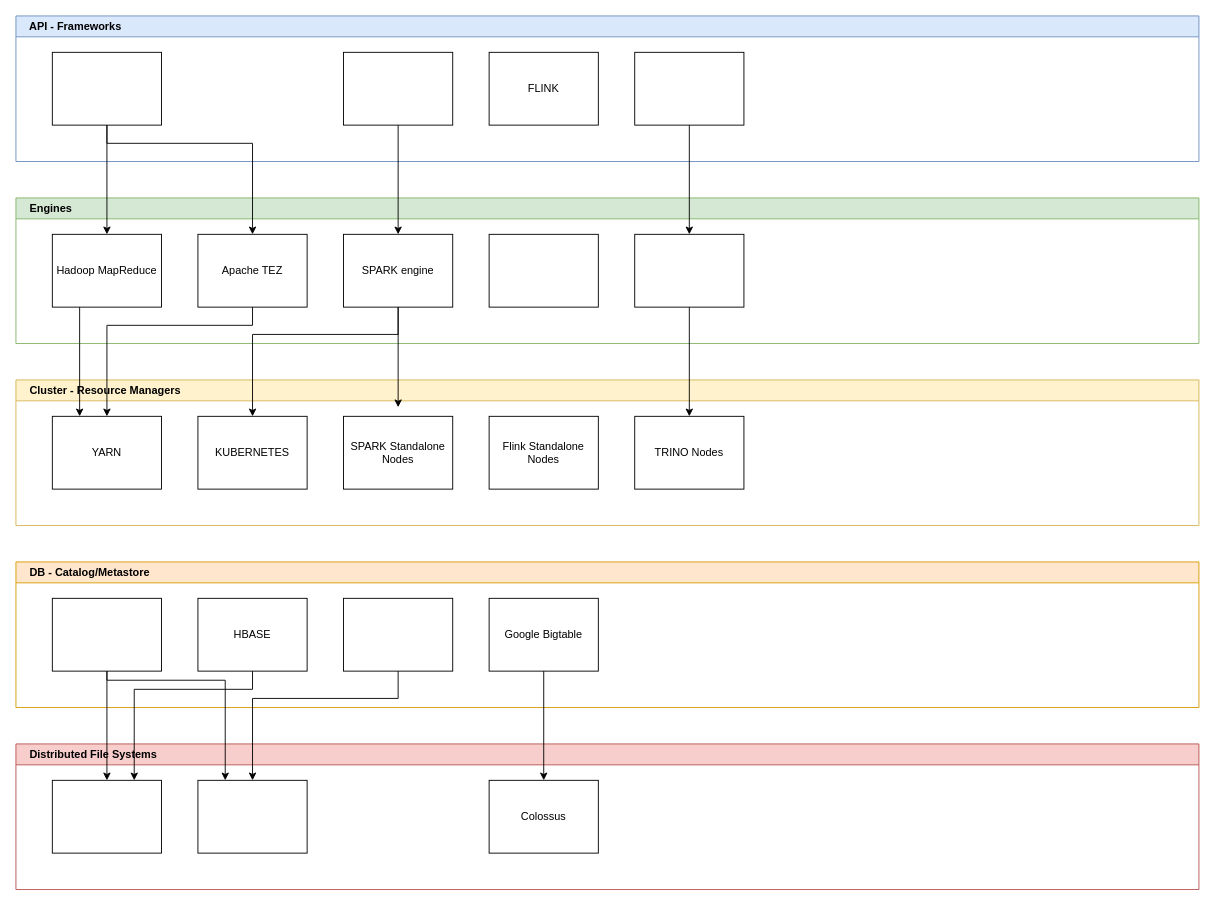
The diagram is 1215 pixels wide and 905 high, and some of its shapes have lost their labels. Each missing label, with the centre of its shape:
"FLINK Engine" belongs at point (543, 270).
"HDFS" belongs at point (106, 816).
"HIVE" belongs at point (106, 88).
"Hive Metastore" belongs at point (106, 634).
"Iceberg" belongs at point (398, 634).
"S3 (MinIO)" belongs at point (252, 816).
"SPARK" belongs at point (398, 88).
"TRINO" belongs at point (689, 88).
"TRINO Engine" belongs at point (689, 270).
